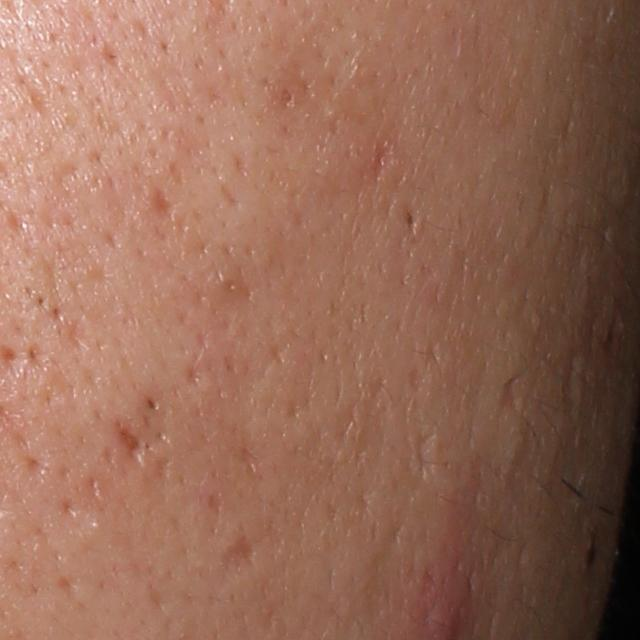atrophic_scar: (218, 525, 263, 575), (107, 417, 153, 465), (408, 426, 442, 483), (366, 136, 393, 190), (493, 371, 522, 419), (181, 353, 210, 398), (20, 446, 57, 481), (148, 184, 177, 222), (56, 572, 87, 602), (63, 317, 85, 357)
comedo: (270, 83, 300, 111), (143, 393, 159, 411)
